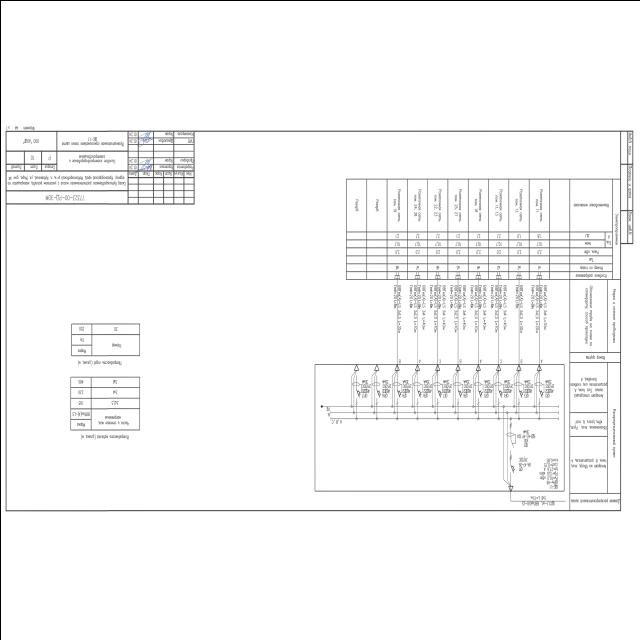-: (516, 428, 534, 442), (516, 455, 530, 466), (544, 378, 554, 393), (462, 378, 472, 392), (422, 378, 432, 392), (482, 378, 492, 392), (401, 378, 411, 392), (380, 378, 390, 392), (442, 378, 452, 392), (360, 378, 370, 392), (522, 378, 532, 392), (502, 378, 512, 392), (544, 480, 557, 490)
QF: (508, 463, 514, 475)
QFD: (505, 431, 515, 451), (533, 381, 543, 398), (452, 381, 462, 398), (432, 381, 442, 398), (412, 381, 422, 398), (392, 381, 402, 398), (370, 381, 380, 398), (473, 381, 483, 398), (350, 382, 360, 398), (493, 382, 503, 398), (513, 382, 523, 398)
